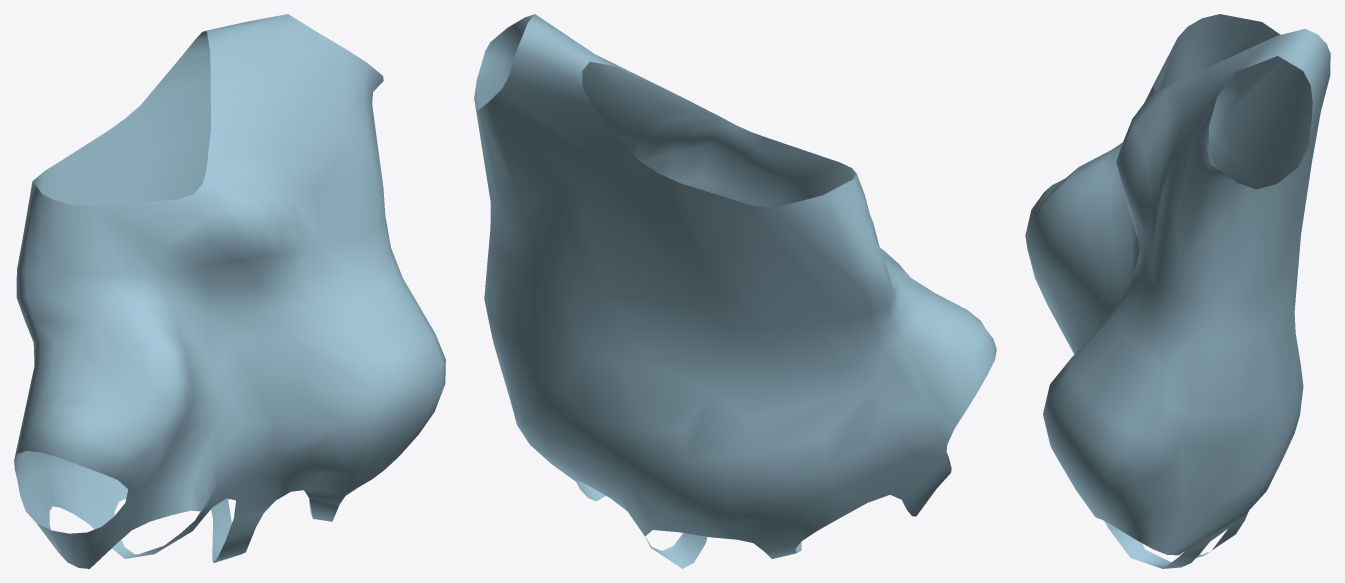
The model's file is articulacoes-articular-capsule-of-radiocarpal-joint-r.glb.
The picture shows the model from 3 angles, left to right: view 1: azimuth 30°, elevation 25°; view 2: azimuth 150°, elevation 25°; view 3: azimuth 270°, elevation 25°; orthographic projection. The views are drawn at different scales.
Visible parts, largest first — view 1: Articular capsule of radiocarpal joint.r; view 2: Articular capsule of radiocarpal joint.r; view 3: Articular capsule of radiocarpal joint.r.
Part boxes in pixels (x1,y1,x2,y2): Articular capsule of radiocarpal joint.r: [14, 14, 445, 568]; Articular capsule of radiocarpal joint.r: [474, 14, 996, 568]; Articular capsule of radiocarpal joint.r: [1025, 14, 1330, 568].
Size of the model in its own units: 0.0549 by 0.0611 by 0.0302.
